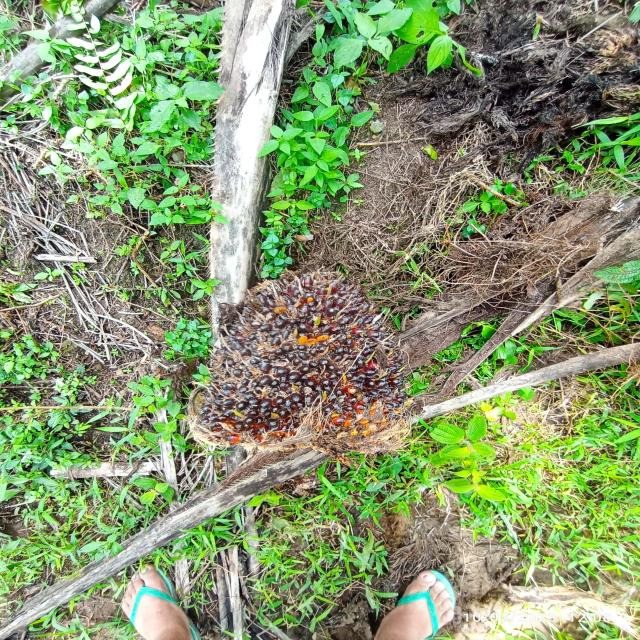fraksi 00: (187, 260, 427, 468)
